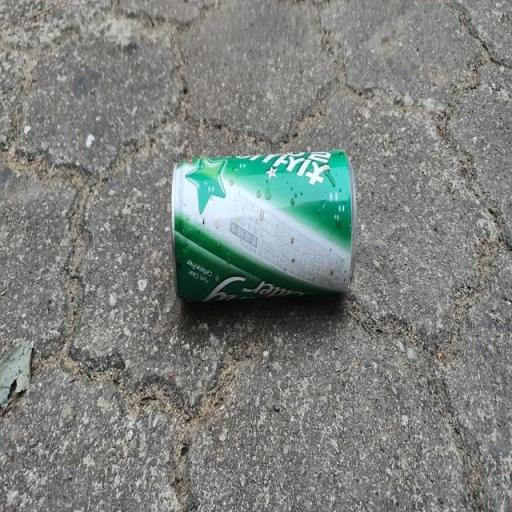metal: (151, 130, 375, 330)
